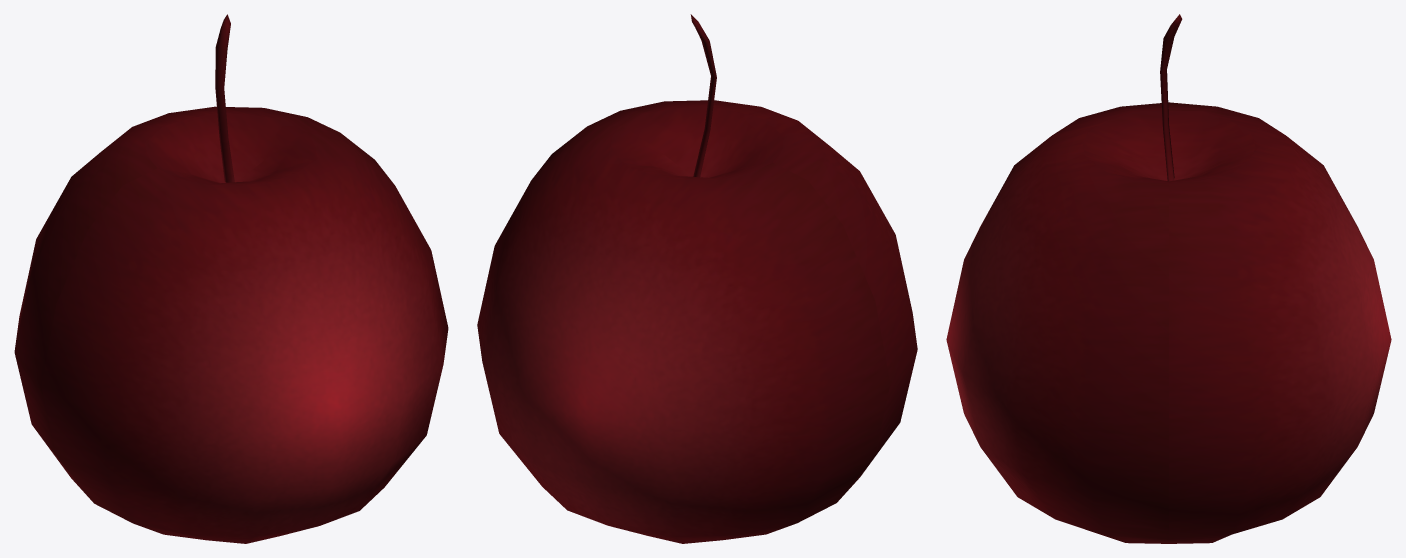
File: cherry.FBX
The picture shows the model from 3 angles, left to right: view 1: azimuth 30°, elevation 25°; view 2: azimuth 150°, elevation 25°; view 3: azimuth 270°, elevation 25°; orthographic projection.
Parts seen in each view (by area): view 1: Cherry; view 2: Cherry; view 3: Cherry.
Part boxes in pixels (x1,y1,x2,y2): Cherry: [14, 14, 448, 543]; Cherry: [477, 14, 917, 543]; Cherry: [946, 14, 1391, 543].
Size of the model in its own units: 3.43 by 4.29 by 3.43.
